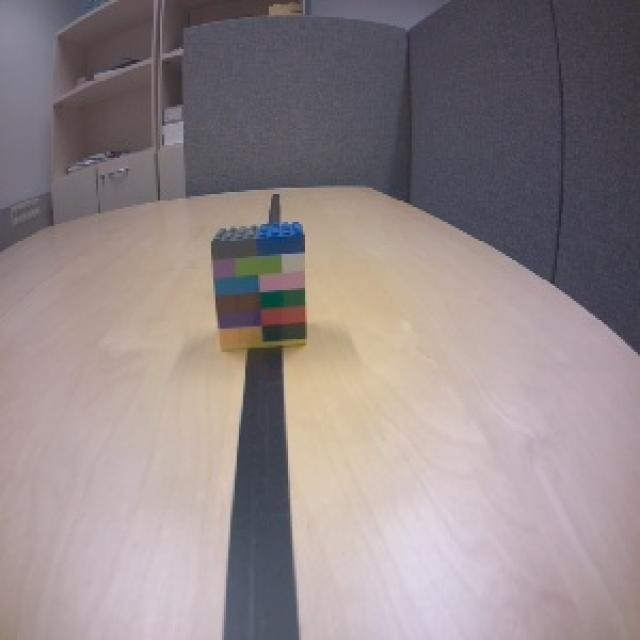obstacle: (208, 218, 310, 354)
